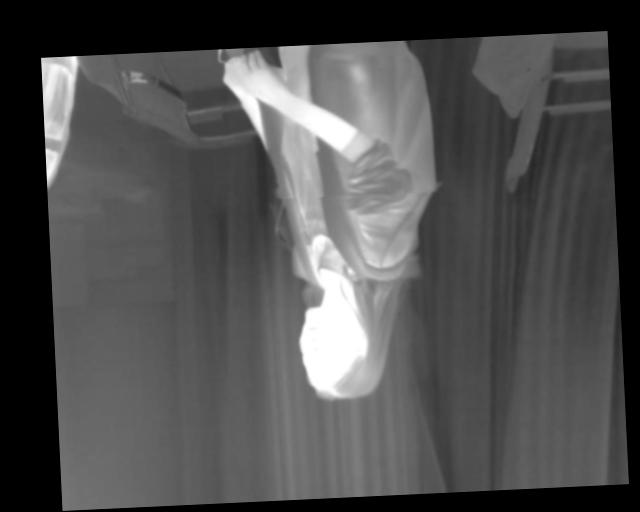face: (297, 301, 385, 403)
